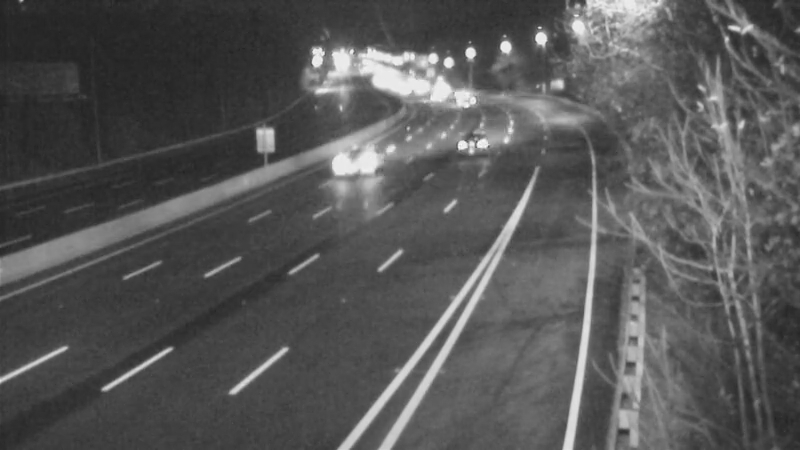vehicle: (315, 114, 395, 194), (417, 66, 467, 116), (408, 74, 458, 124), (438, 81, 488, 131), (443, 116, 493, 166)
